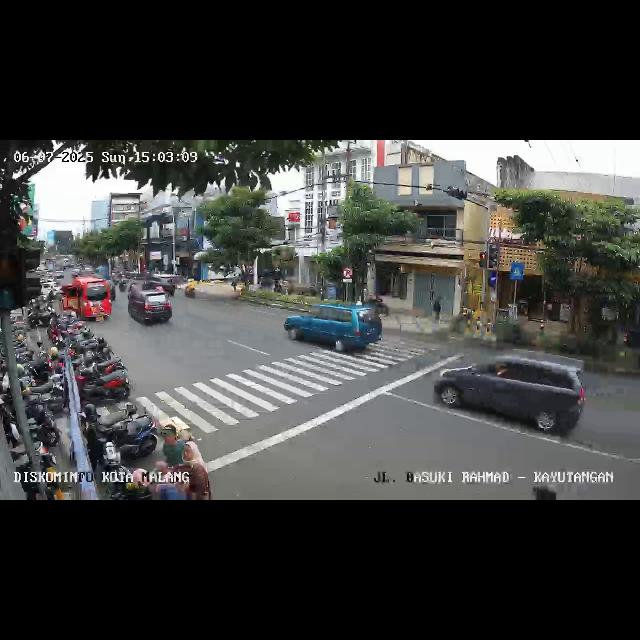car: (435, 352, 587, 440), (284, 302, 384, 358), (57, 276, 111, 324), (128, 290, 174, 328)
person: (174, 440, 210, 500), (160, 424, 190, 470)
